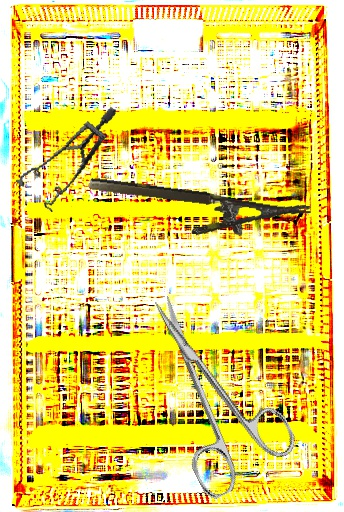Iris Scissors: (117, 273, 304, 503)
Needle Holder: (84, 175, 312, 250)
Speculum: (3, 105, 136, 219)
